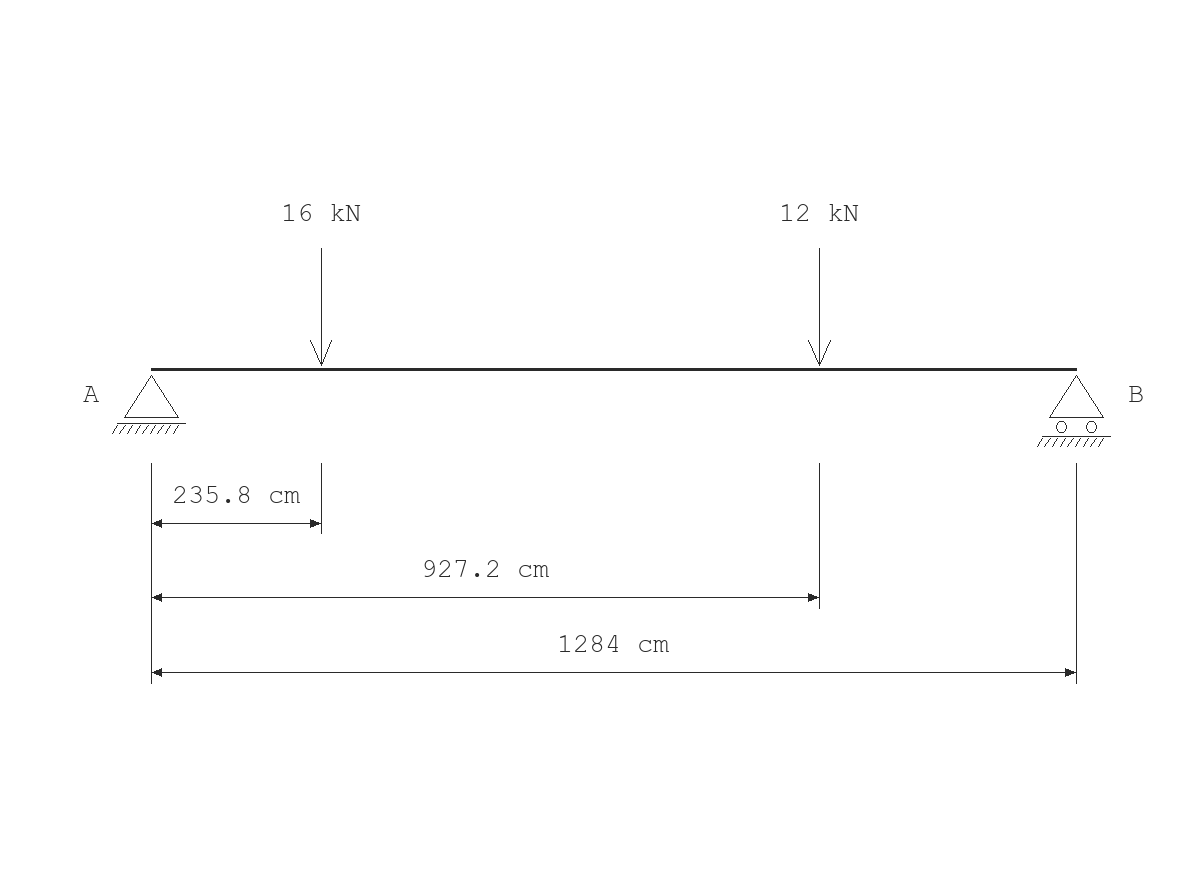pin_support: (112, 375, 186, 434)
point_load: (808, 248, 831, 366), (310, 248, 332, 366)
roller_support: (1037, 375, 1111, 447)
